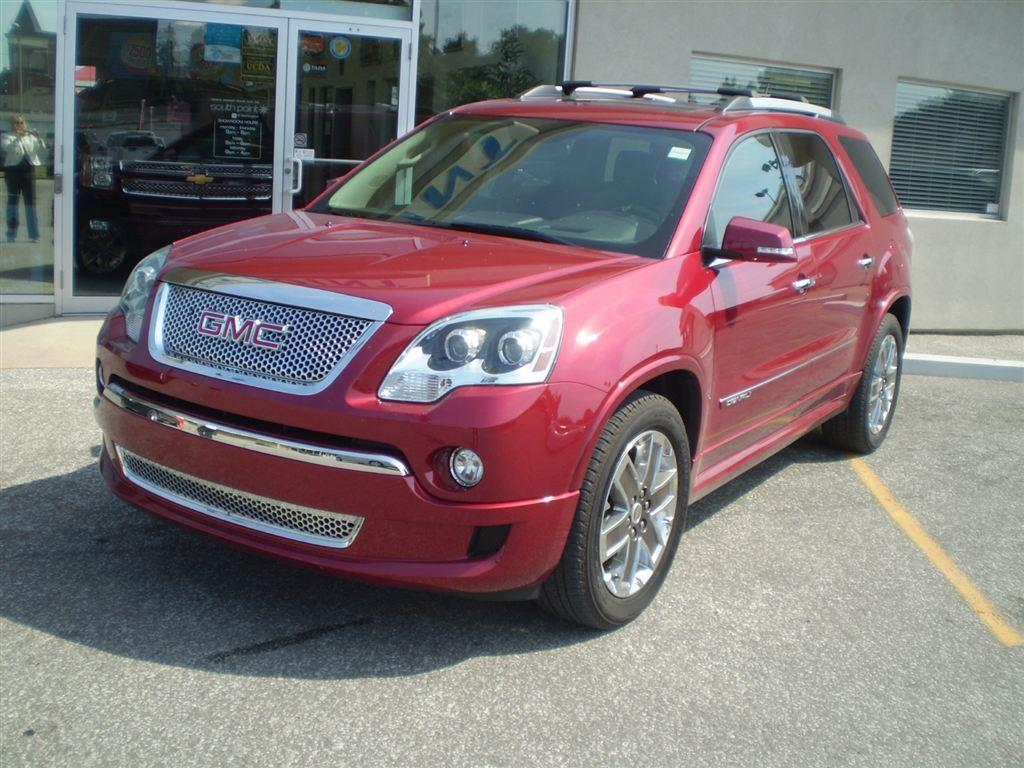GMC: (184, 300, 303, 362)
